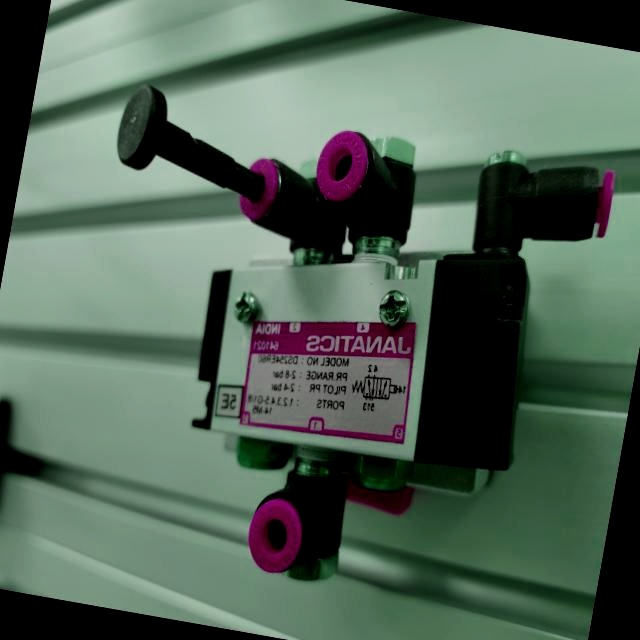5by2 DCV: (32, 60, 632, 635)
